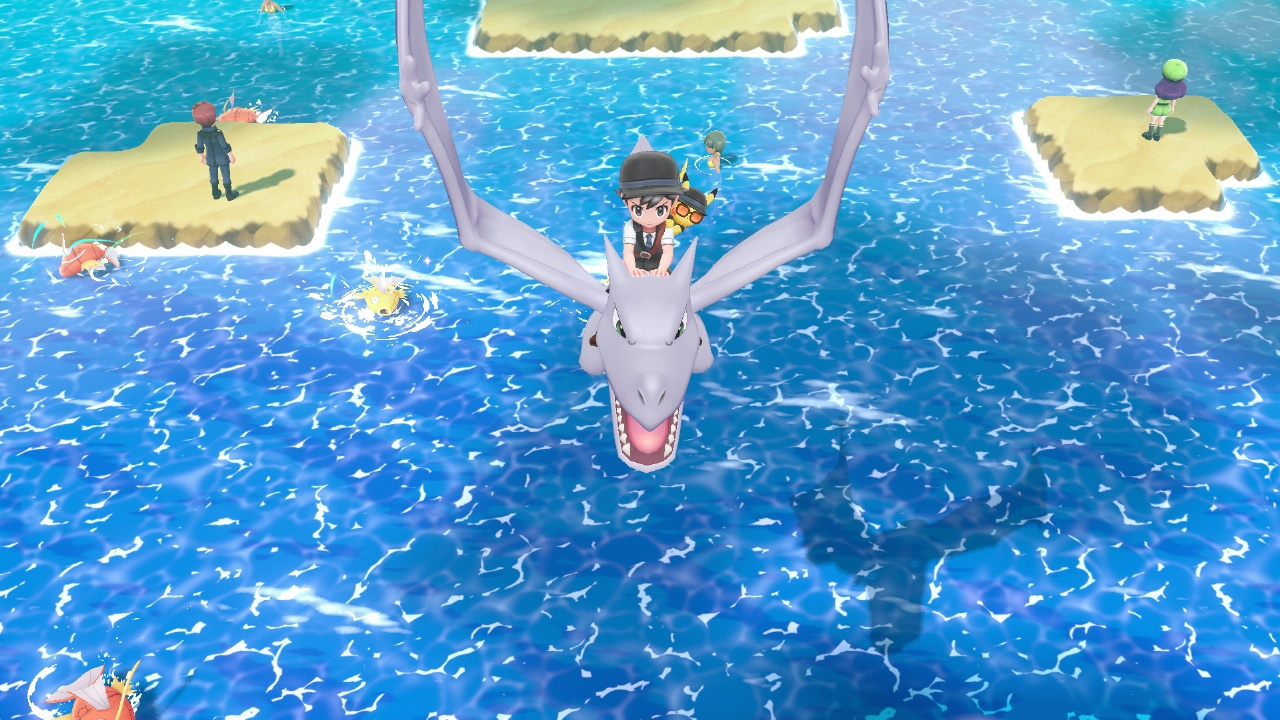Golden: (356, 273, 408, 318)
